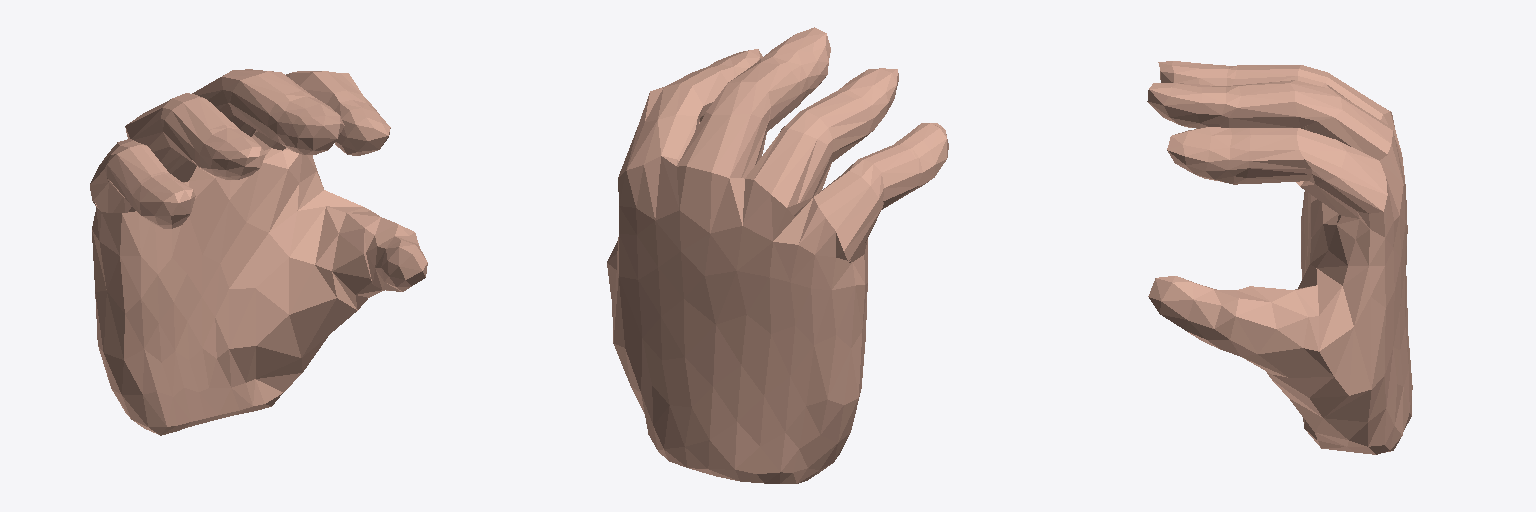
The model's file is C_AFASTADO.obj.
3 views of the same model, side by side, from view 1: azimuth 30°, elevation 25°; view 2: azimuth 150°, elevation 25°; view 3: azimuth 270°, elevation 25° (orthographic).
Visible parts, largest first — view 1: mao_dir:mao_dir; view 2: mao_dir:mao_dir; view 3: mao_dir:mao_dir.
Part boxes in pixels (bbox=[...]): mao_dir:mao_dir: bbox=[90, 69, 427, 435]; mao_dir:mao_dir: bbox=[607, 27, 948, 483]; mao_dir:mao_dir: bbox=[1147, 61, 1412, 454].
Bounding box in the file's own units: 144 × 171 × 116.